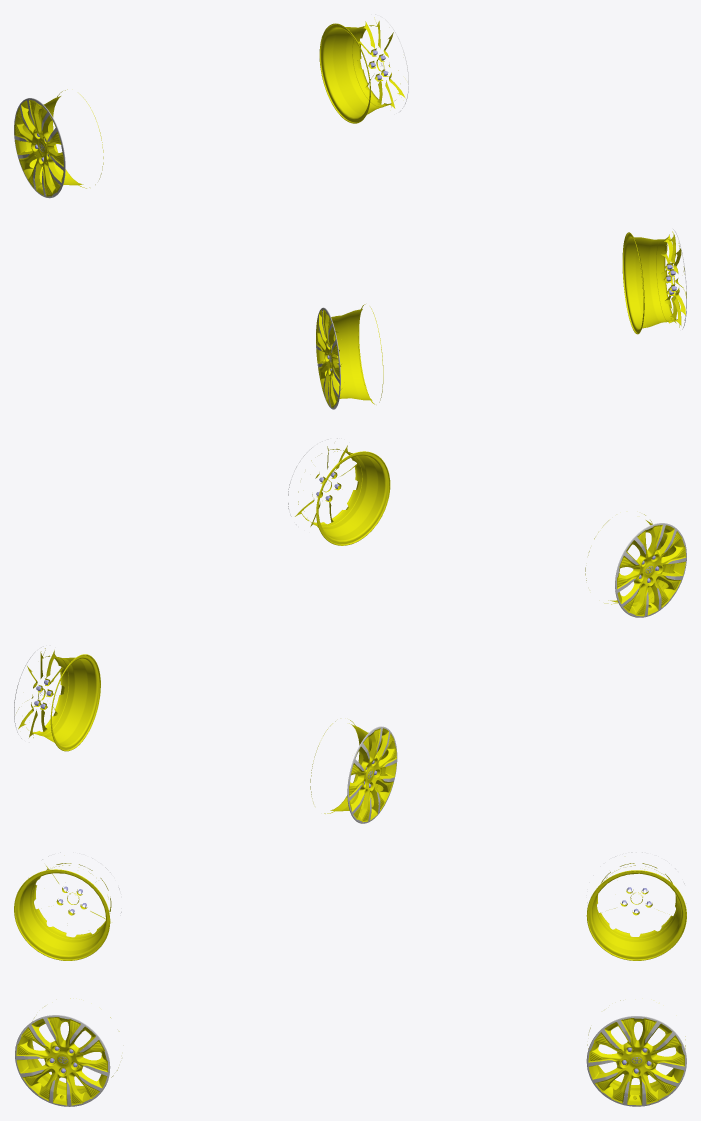
The model's file is TOYOTA_URBAN_CRUISER_EX_PRE_WHEEL_RIM_MESH.glb.
3 views of the same model, one above another, from view 1: azimuth 30°, elevation 25°; view 2: azimuth 150°, elevation 25°; view 3: azimuth 270°, elevation 25° (orthographic). The views are drawn at different scales.
Visible parts, largest first — view 1: TOYOTA_URBAN_CRUISER_EX_PRE_WHEEL_RIM_MESH; view 2: TOYOTA_URBAN_CRUISER_EX_PRE_WHEEL_RIM_MESH; view 3: TOYOTA_URBAN_CRUISER_EX_PRE_WHEEL_RIM_MESH.
Boxes of the visible parts, box(x1,y1,x2,y2) form: TOYOTA_URBAN_CRUISER_EX_PRE_WHEEL_RIM_MESH: box(14, 14, 686, 409); TOYOTA_URBAN_CRUISER_EX_PRE_WHEEL_RIM_MESH: box(14, 438, 686, 823); TOYOTA_URBAN_CRUISER_EX_PRE_WHEEL_RIM_MESH: box(14, 852, 686, 1106).
Size of the model in its own units: 1.83 by 0.441 by 2.96.
